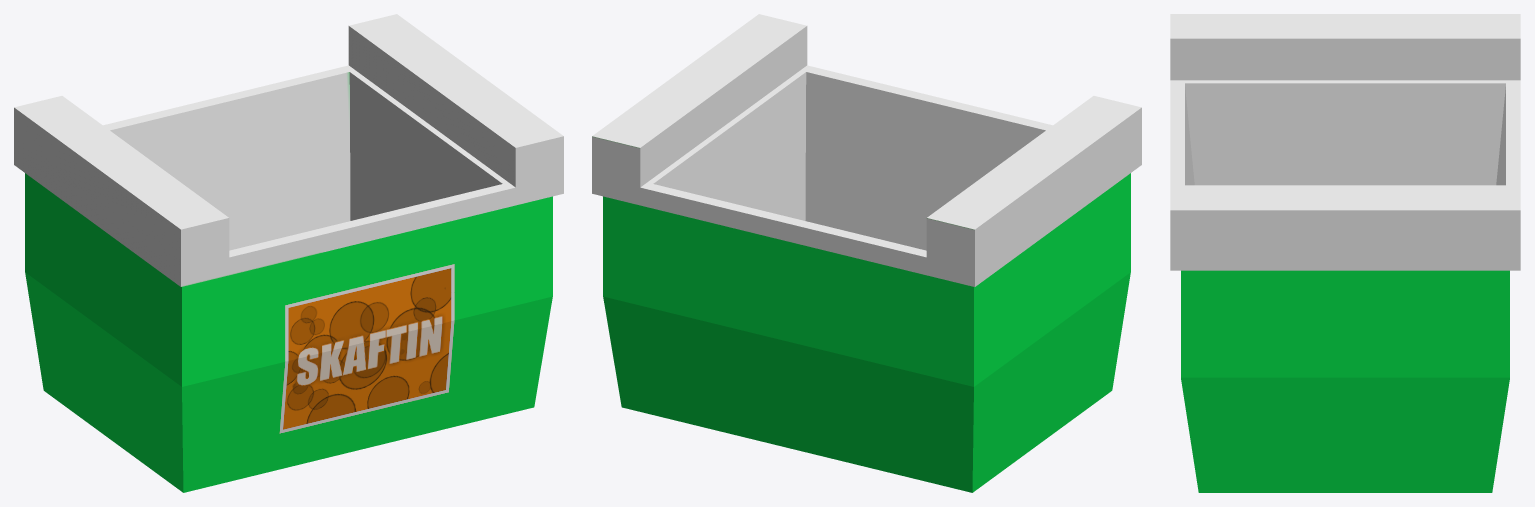
Rendered from M_Pickup_Lunchbox.fbx.
The picture shows the model from 3 angles, left to right: view 1: azimuth 30°, elevation 25°; view 2: azimuth 150°, elevation 25°; view 3: azimuth 270°, elevation 25°; orthographic projection. The views are drawn at different scales.
Visible parts, largest first — view 1: Lunchbox; view 2: Lunchbox; view 3: Lunchbox.
Boxes of the visible parts, x1,y1,x2,y2 form: Lunchbox: [14, 14, 563, 492]; Lunchbox: [592, 14, 1141, 492]; Lunchbox: [1170, 14, 1520, 492].
Size of the model in its own units: 23.13 by 16 by 17.47.
